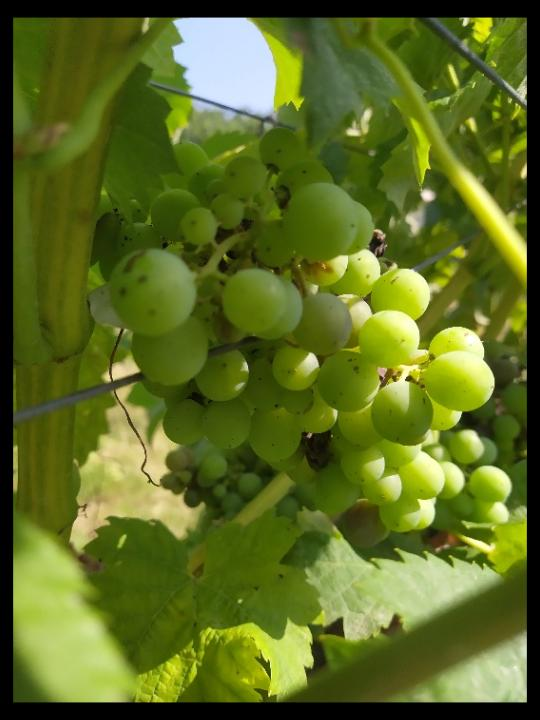grape: (94, 129, 513, 553)
